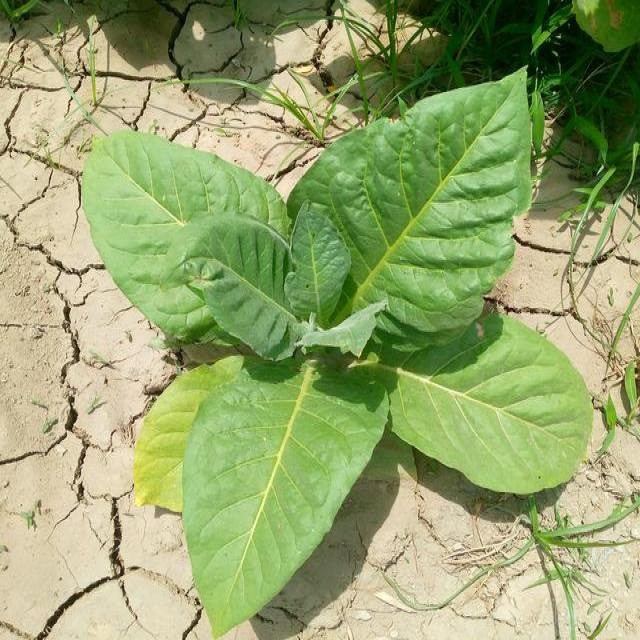crop: (83, 90, 590, 608)
